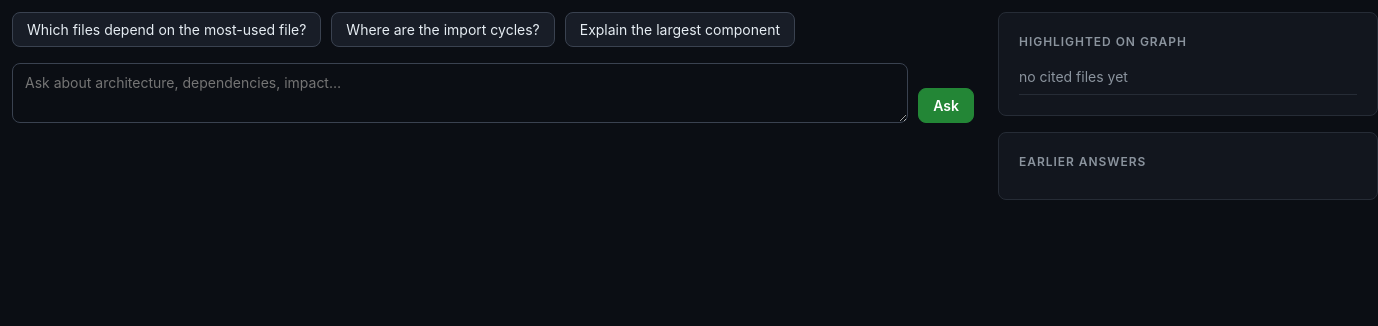
busy is shown with retry
Step 1. Click the button "Which files depend on the most-used file?" → (167, 30), box [12,12,321,47]
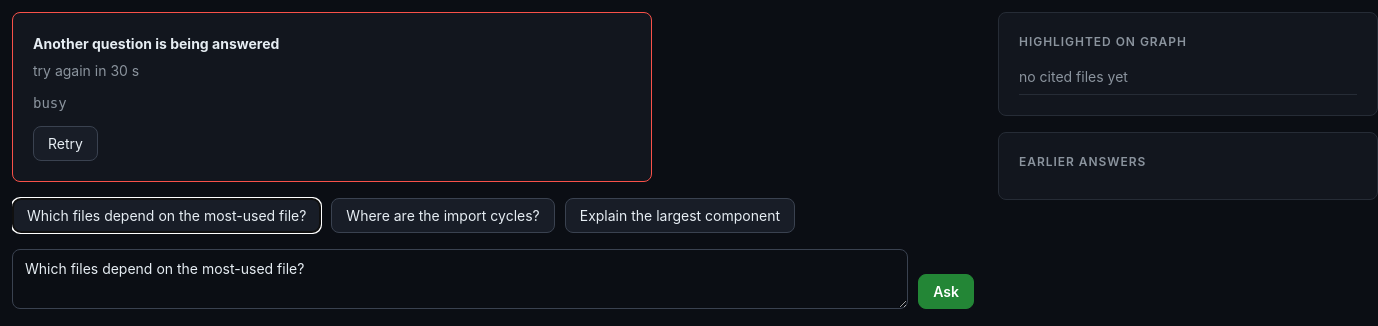
Expected: the message shows "Another question is being answered", [33,35,279,52]
